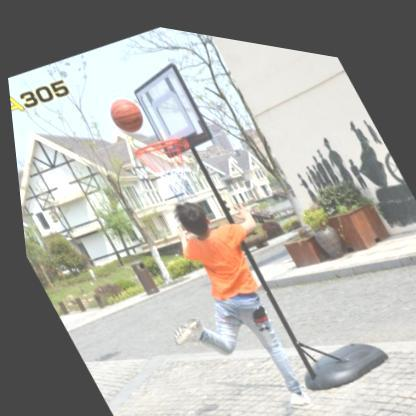basketball: (101, 86, 148, 136)
rim: (128, 125, 205, 209)
